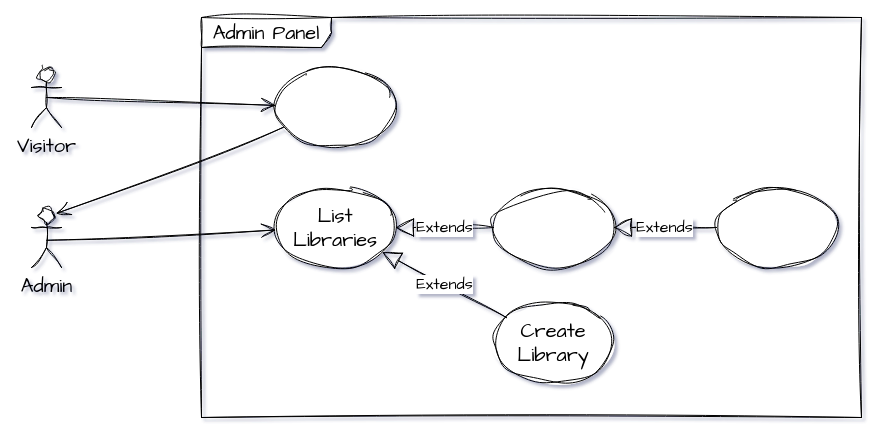
This 885x441 diagram has some shape labels left out. The shapes that lost their labels are listed below. From the top down, each one's centre as x and y in pixels, then its label:
At (335,107): "Login".
At (553,227): "View Library".
At (776,227): "Delete Library".
